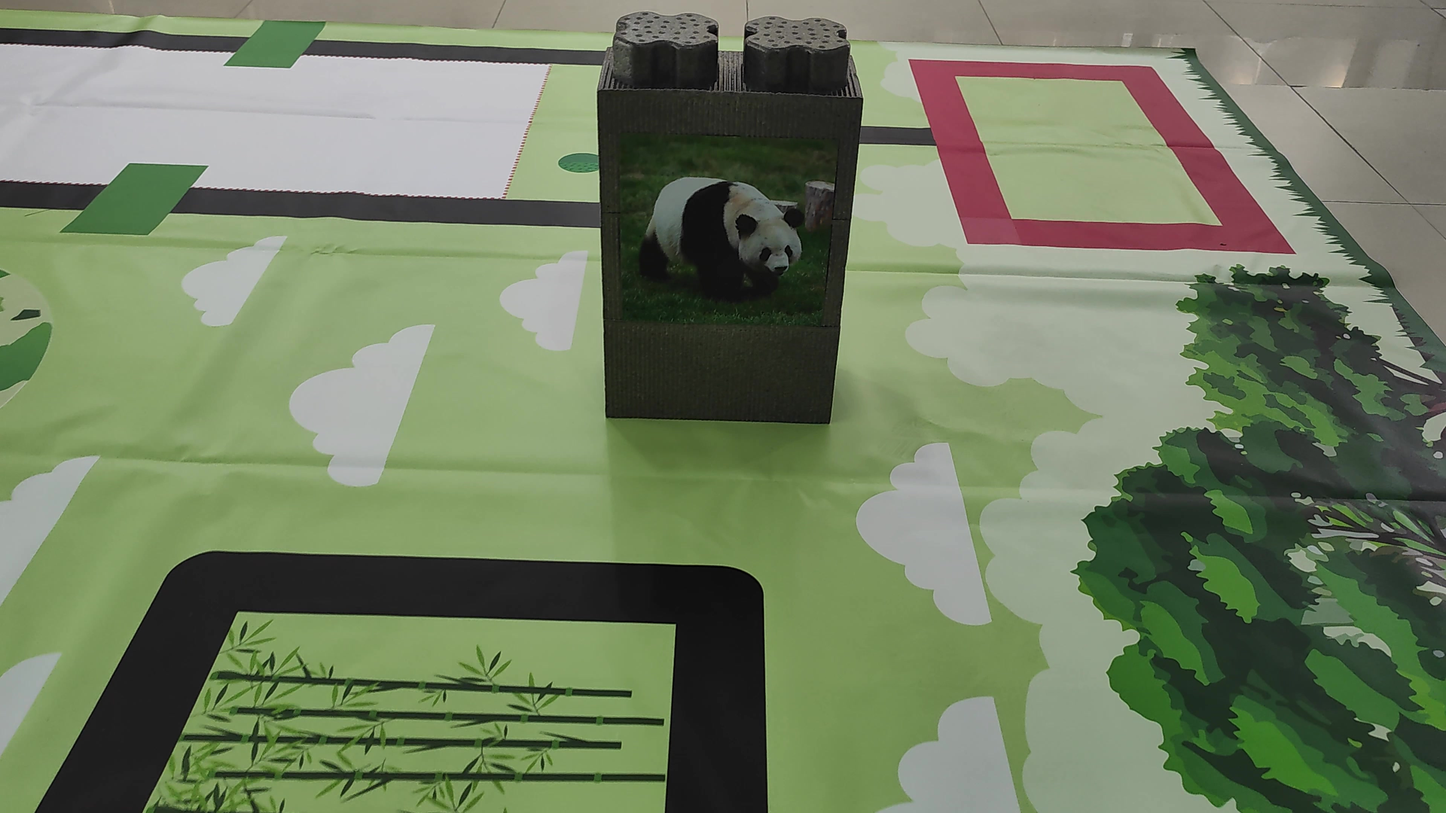panda: (621, 148, 832, 341)
